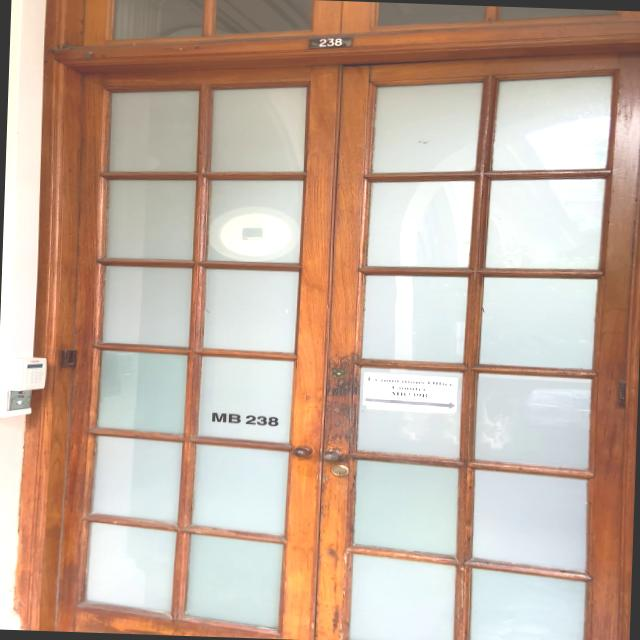room238: (305, 35, 352, 50)
